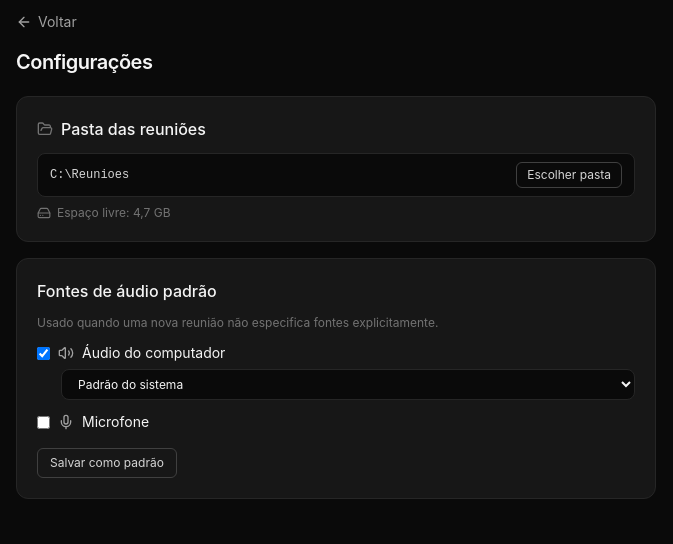
Scenario: Settings › mostra erro (e nao 'Salvo.') quando o painel nao responde ao salvar
expect the checkbox labelled "Áudio do computador" is shown: met, box [37,346,50,360]
Click the button "Salvar como padrão".
click(107, 463)  # box [37,448,177,478]
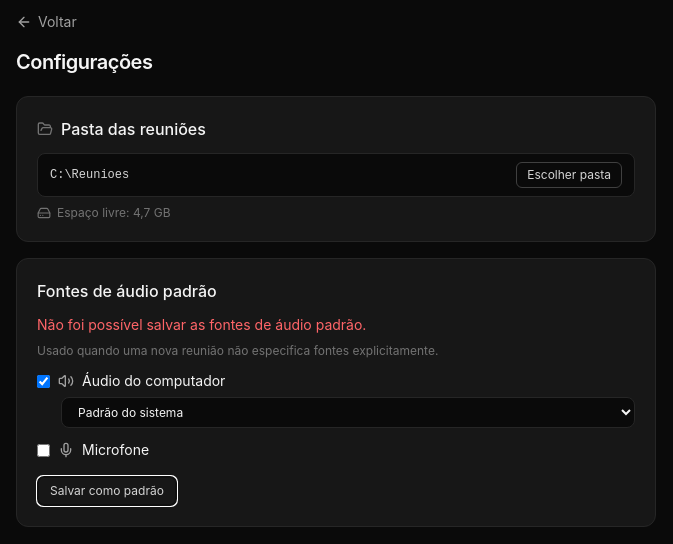
expect the message reads "Não foi possível salvar as fontes de áudio padrão.": met, box [37,316,366,333]
